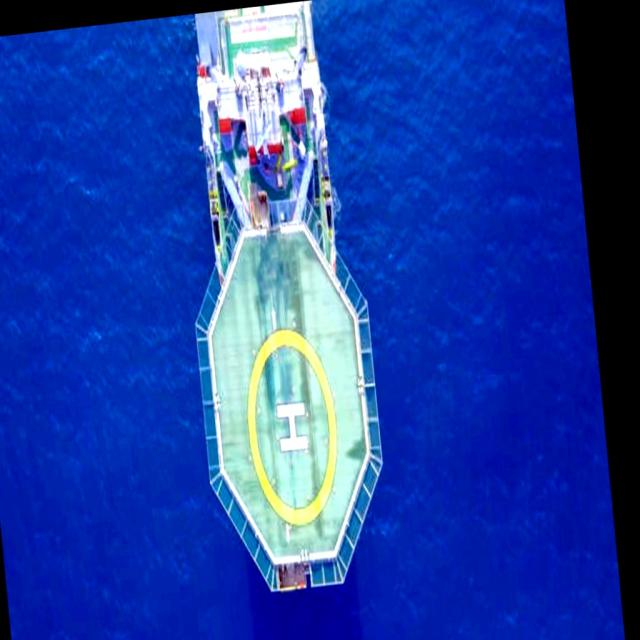helipad: (242, 324, 342, 528)
